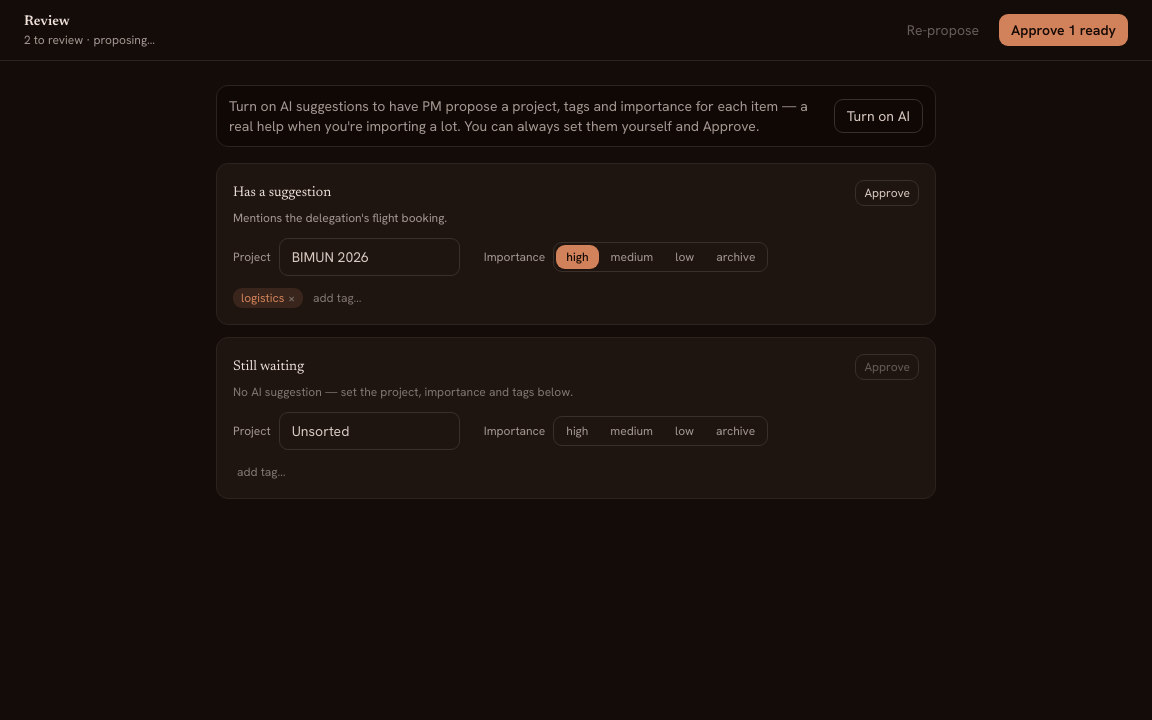
Test: Approve all during a run this view did not start › files what is ready and leaves the rest in the queue
Click the button "Approve 1 ready": (1064, 30) [999, 14, 1128, 46]
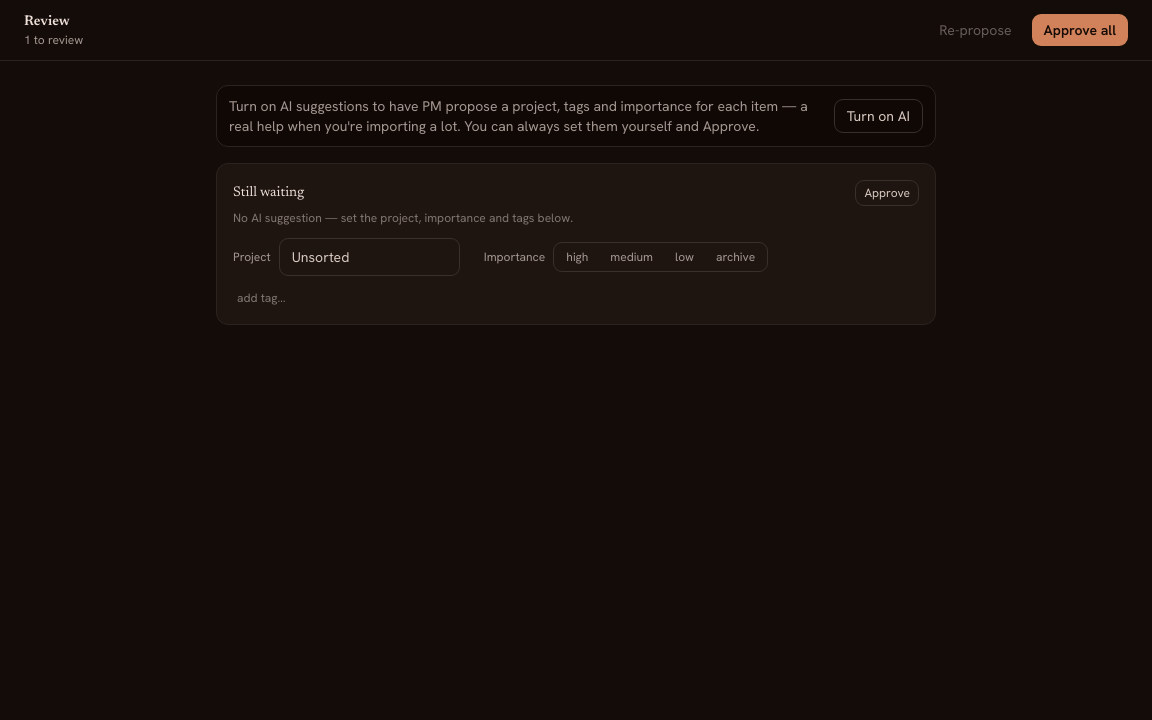
Expected: the button "Still waiting" is shown, [227, 181, 853, 205]
Expected: the text "1 to review" is shown, [24, 32, 83, 48]
